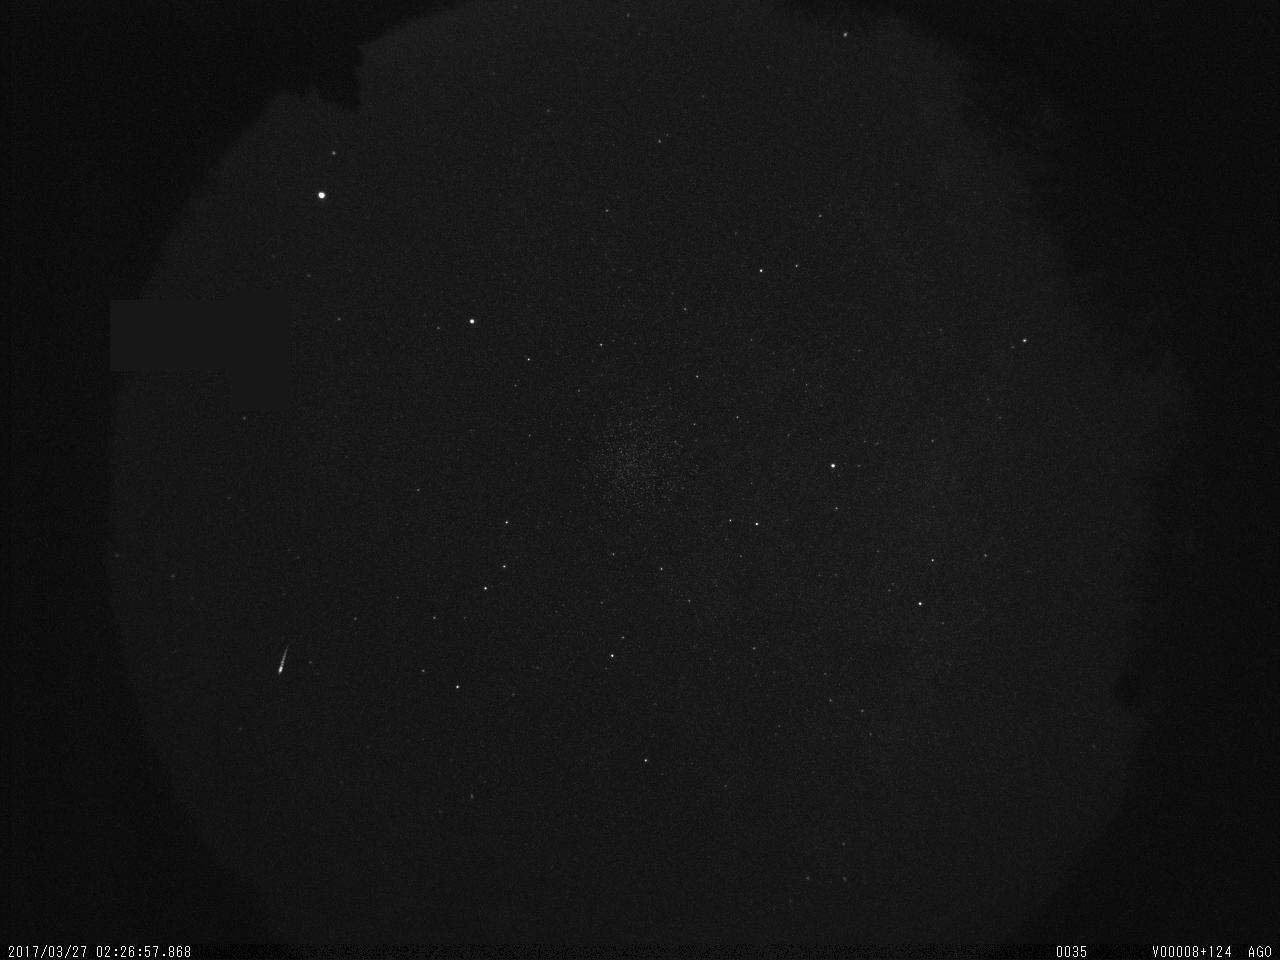meteor: (267, 635, 301, 681)
